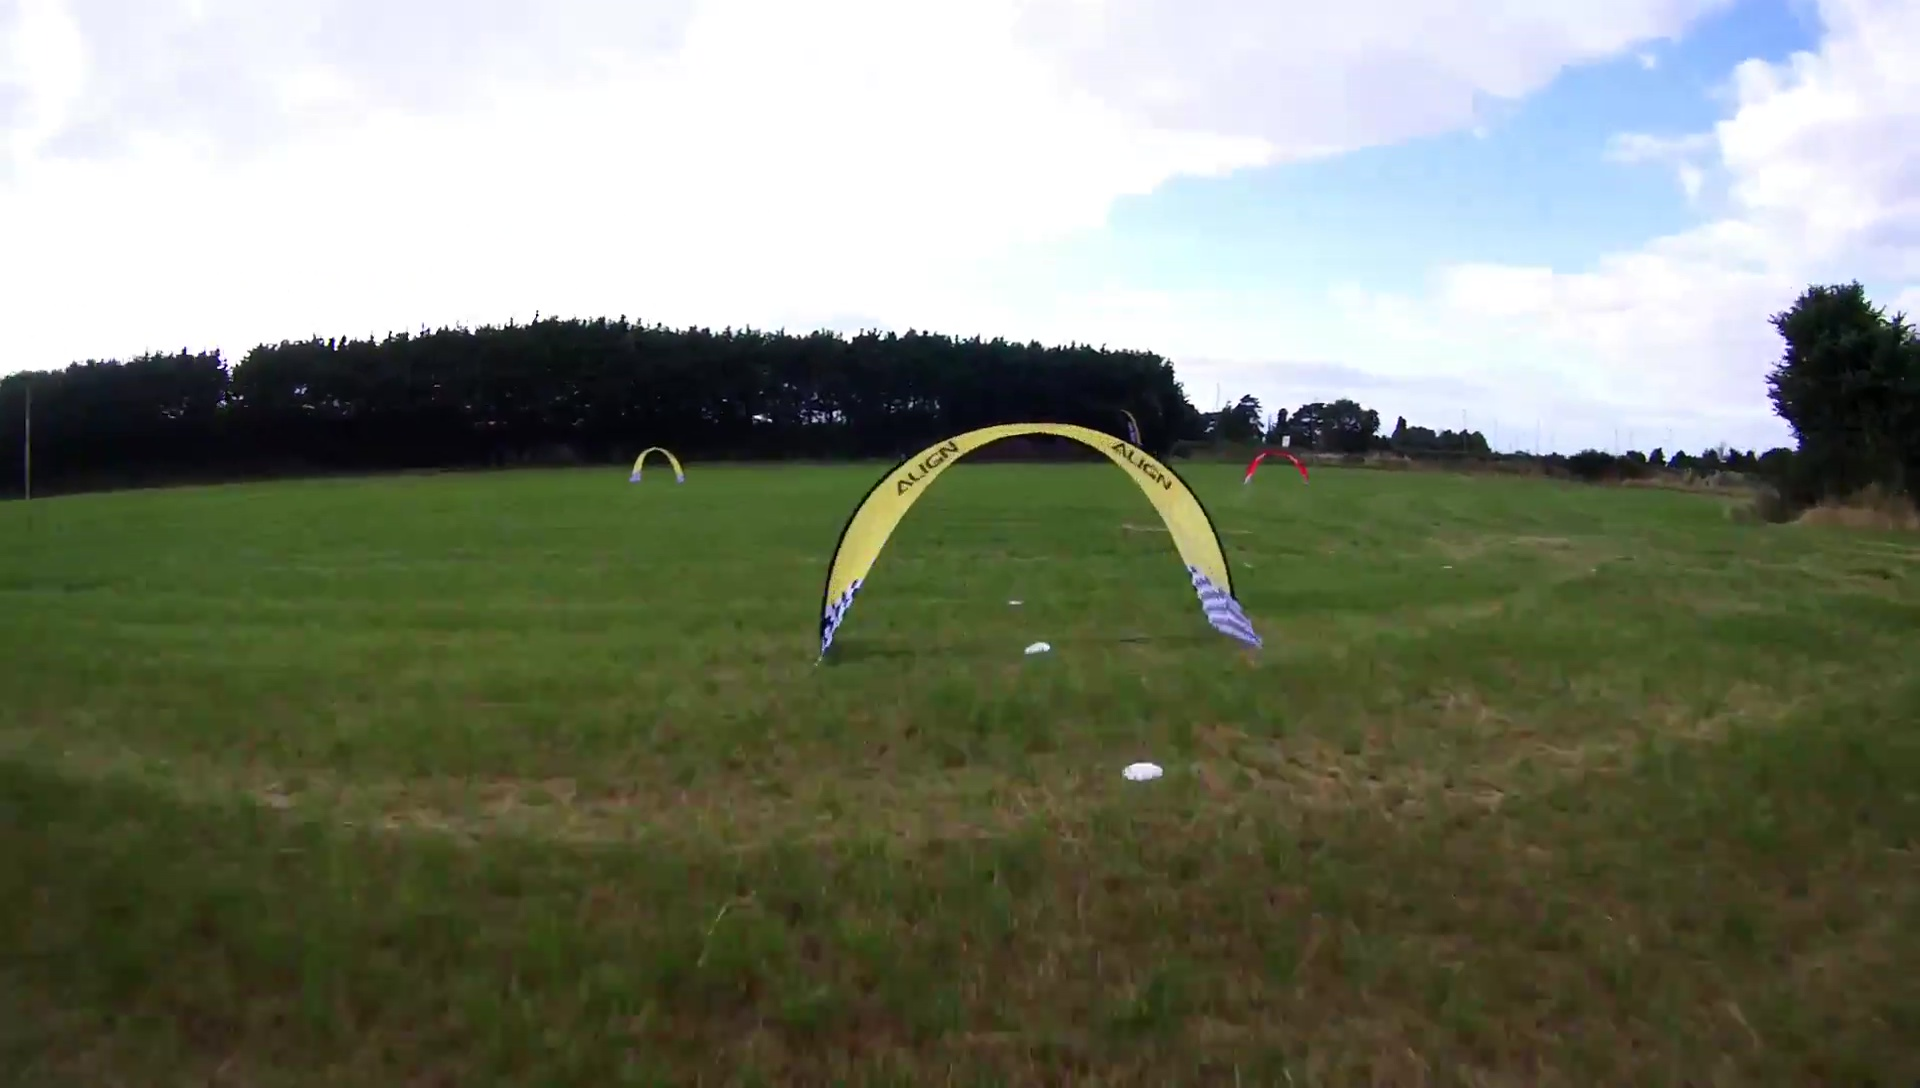gate: (816, 418, 1267, 662), (1242, 448, 1312, 485), (632, 448, 684, 484)
